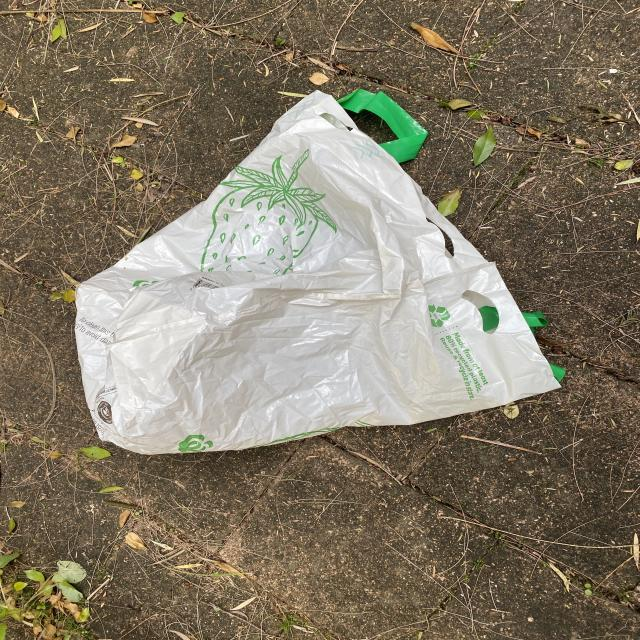bag: (76, 92, 567, 475), (76, 427, 167, 475)
